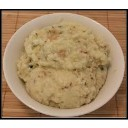venpongal: (25, 24, 107, 104)
